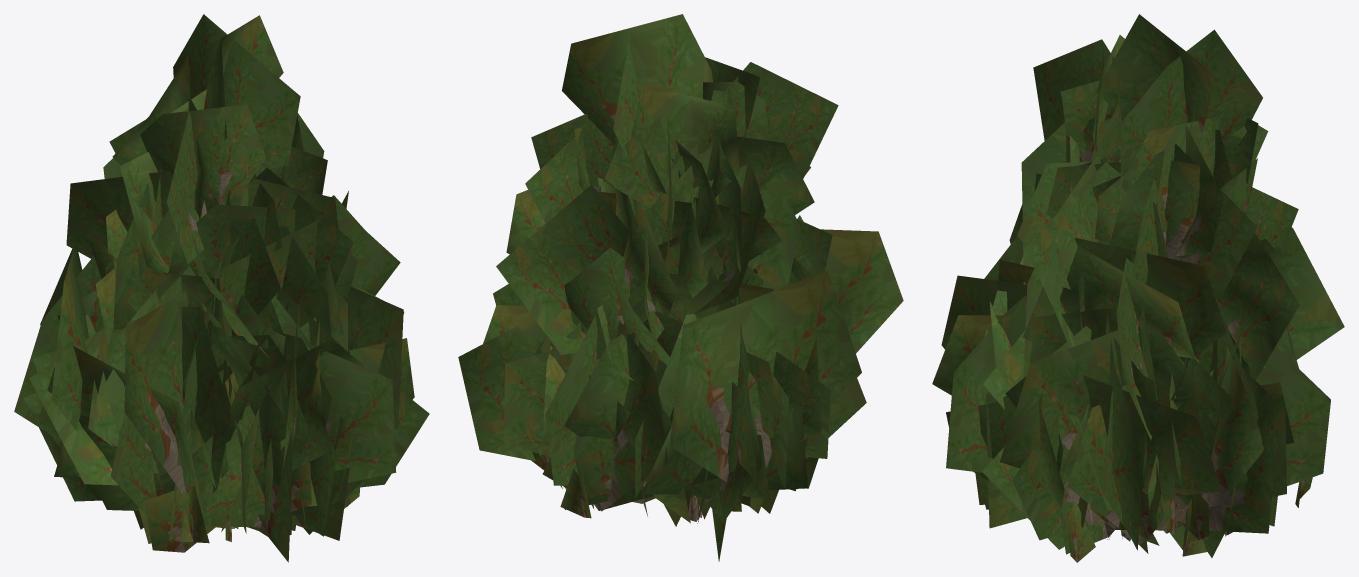
Rendered from lolipop_bush_small_1k.gltf.
3 views of the same model, side by side, from view 1: azimuth 30°, elevation 25°; view 2: azimuth 150°, elevation 25°; view 3: azimuth 270°, elevation 25° (orthographic). The views are drawn at different scales.
Visible parts, largest first — view 1: Bush_small_003__LOD0, Bush_medium_003__LOD0, Bush_medium_005__LOD0, Bush_medium_002__LOD0, Bush_small_001__LOD0, Bush_small_002__LOD0, Bush_medium_004__LOD0, Bush_small_005__LOD0, Bush_small_004__LOD0, Bush_medium_001__LOD0; view 2: Bush_medium_002__LOD0, Bush_medium_005__LOD0, Bush_small_003__LOD0, Bush_small_005__LOD0, Bush_medium_003__LOD0, Bush_medium_004__LOD0, Bush_small_002__LOD0, Bush_small_004__LOD0, Bush_small_001__LOD0, Bush_medium_001__LOD0; view 3: Bush_medium_005__LOD0, Bush_small_003__LOD0, Bush_medium_003__LOD0, Bush_medium_002__LOD0, Bush_small_005__LOD0, Bush_medium_001__LOD0, Bush_small_002__LOD0, Bush_small_001__LOD0, Bush_small_004__LOD0, Bush_medium_004__LOD0.
Part boxes in pixels (x1,y1,x2,y2): Bush_small_003__LOD0: (14,248,404,543); Bush_medium_003__LOD0: (138,104,357,506); Bush_medium_005__LOD0: (38,116,400,530); Bush_medium_002__LOD0: (66,14,363,534); Bush_small_001__LOD0: (39,334,429,562); Bush_small_002__LOD0: (79,336,414,543); Bush_medium_004__LOD0: (57,158,363,479); Bush_small_005__LOD0: (23,387,336,536); Bush_small_004__LOD0: (144,416,360,552); Bush_medium_001__LOD0: (92,89,354,358); Bush_medium_002__LOD0: (540,14,800,364); Bush_medium_005__LOD0: (496,82,866,458); Bush_small_003__LOD0: (493,215,903,519); Bush_small_005__LOD0: (458,305,807,526); Bush_medium_003__LOD0: (525,57,838,421); Bush_medium_004__LOD0: (501,140,781,521); Bush_small_002__LOD0: (545,271,812,523); Bush_small_004__LOD0: (534,309,818,511); Bush_small_001__LOD0: (641,382,742,561); Bush_medium_001__LOD0: (599,95,757,438); Bush_medium_005__LOD0: (984,80,1299,440); Bush_small_003__LOD0: (932,204,1344,550); Bush_medium_003__LOD0: (1020,35,1256,554); Bush_medium_002__LOD0: (982,14,1298,549); Bush_small_005__LOD0: (976,348,1312,540); Bush_medium_001__LOD0: (1023,106,1268,541); Bush_small_002__LOD0: (946,340,1330,533); Bush_small_001__LOD0: (975,327,1298,540); Bush_small_004__LOD0: (1066,320,1293,562); Bush_medium_004__LOD0: (983,118,1293,557).
Size of what is drawn, in the model's own units: 0.8947 by 1.14 by 0.8396.
2 materials, 2 textured.
